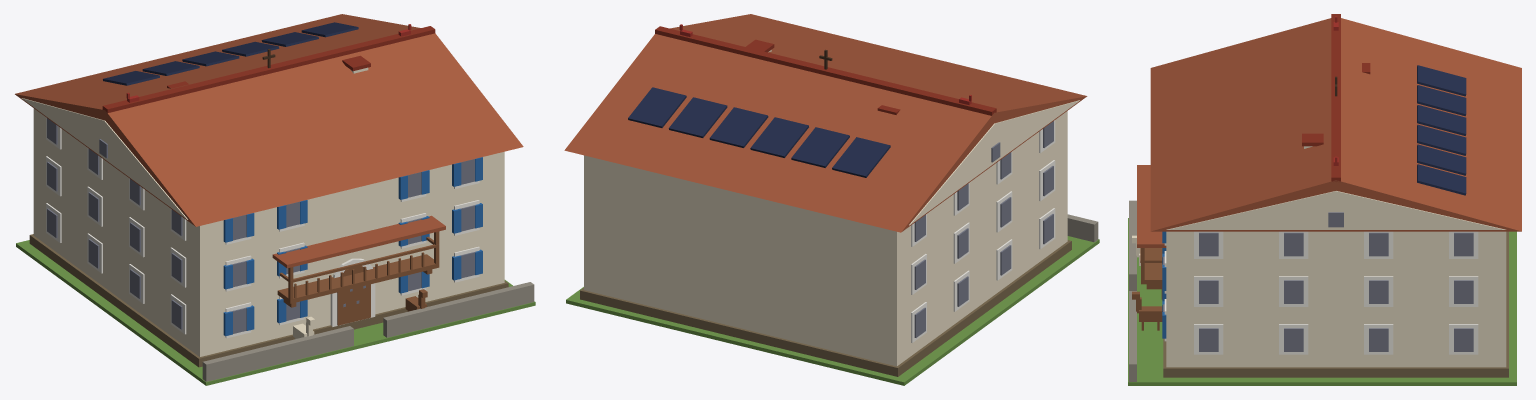
File: house-2x2-3f-andean-a-solar.glb
3 views of the same model, side by side, from view 1: azimuth 30°, elevation 25°; view 2: azimuth 150°, elevation 25°; view 3: azimuth 270°, elevation 25° (orthographic). The views are drawn at different scales.
Parts seen in each view (by area): view 1: house-2x2-3f-andean-a-solar; view 2: house-2x2-3f-andean-a-solar; view 3: house-2x2-3f-andean-a-solar.
Part boxes in pixels (x1=…): house-2x2-3f-andean-a-solar: x1=15, y1=14, x2=535, y2=385; house-2x2-3f-andean-a-solar: x1=564, y1=14, x2=1099, y2=385; house-2x2-3f-andean-a-solar: x1=1128, y1=14, x2=1521, y2=385.
Size of the model in its own units: 2.01 by 1.28 by 2.01.
Materials: 1 (1 with a texture image).
